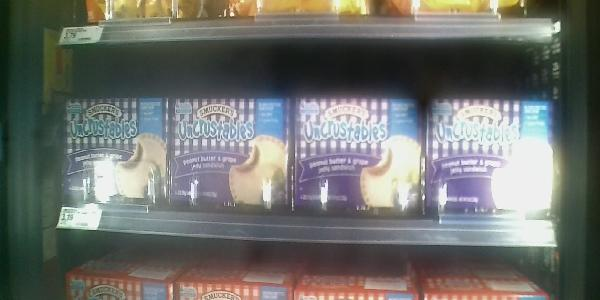icecream: (427, 91, 557, 223), (293, 94, 427, 217), (170, 95, 292, 210), (63, 94, 170, 211)
